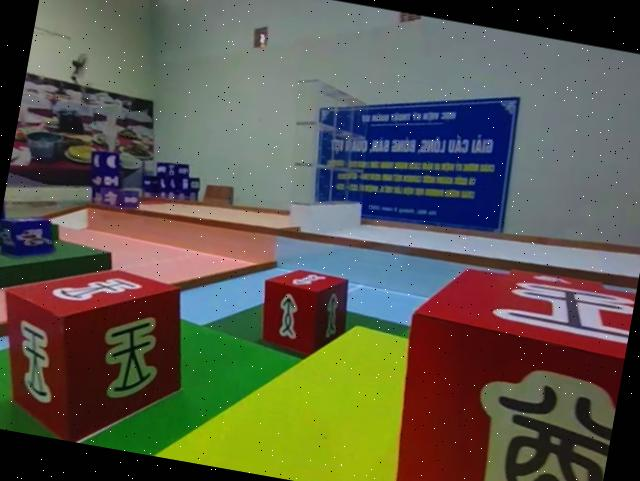R2 Fake: (379, 250, 636, 481)
R2 Real: (0, 248, 200, 458), (253, 261, 353, 361)
